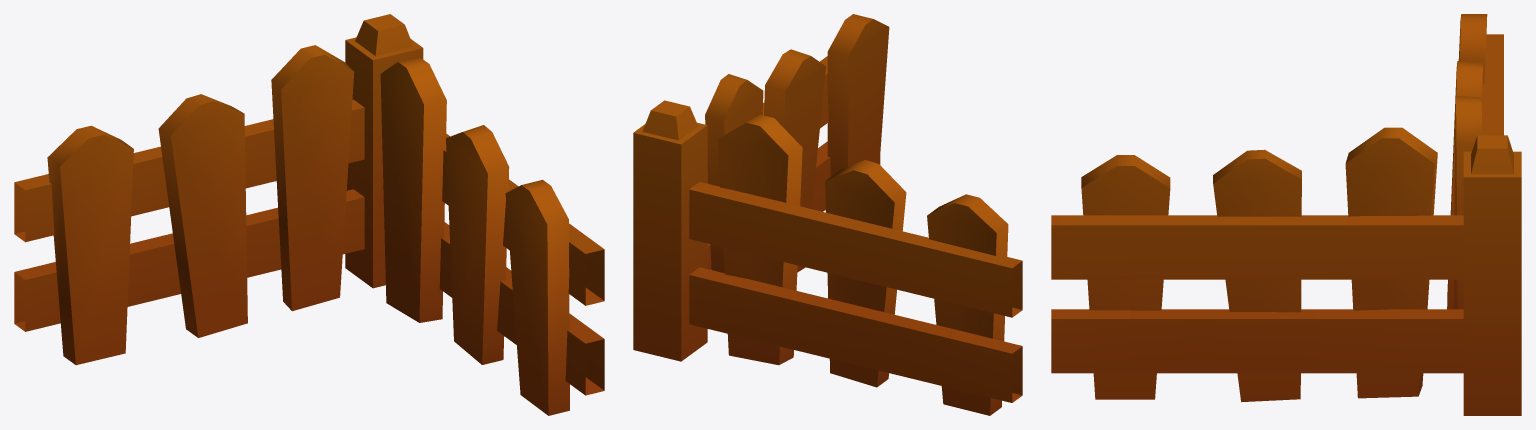
Rendered from Farm_Fence_B_02.fbx.
3 views of the same model, side by side, from view 1: azimuth 30°, elevation 25°; view 2: azimuth 150°, elevation 25°; view 3: azimuth 270°, elevation 25° (orthographic). The views are drawn at different scales.
Visible parts, largest first — view 1: Farm_Fence_B_02; view 2: Farm_Fence_B_02; view 3: Farm_Fence_B_02.
Boxes of the visible parts, box(x1,y1,x2,y2) form: Farm_Fence_B_02: box(14, 14, 604, 415); Farm_Fence_B_02: box(633, 14, 1022, 415); Farm_Fence_B_02: box(1051, 14, 1521, 415).
Bounding box in the file's own units: 177 × 108 × 177.
